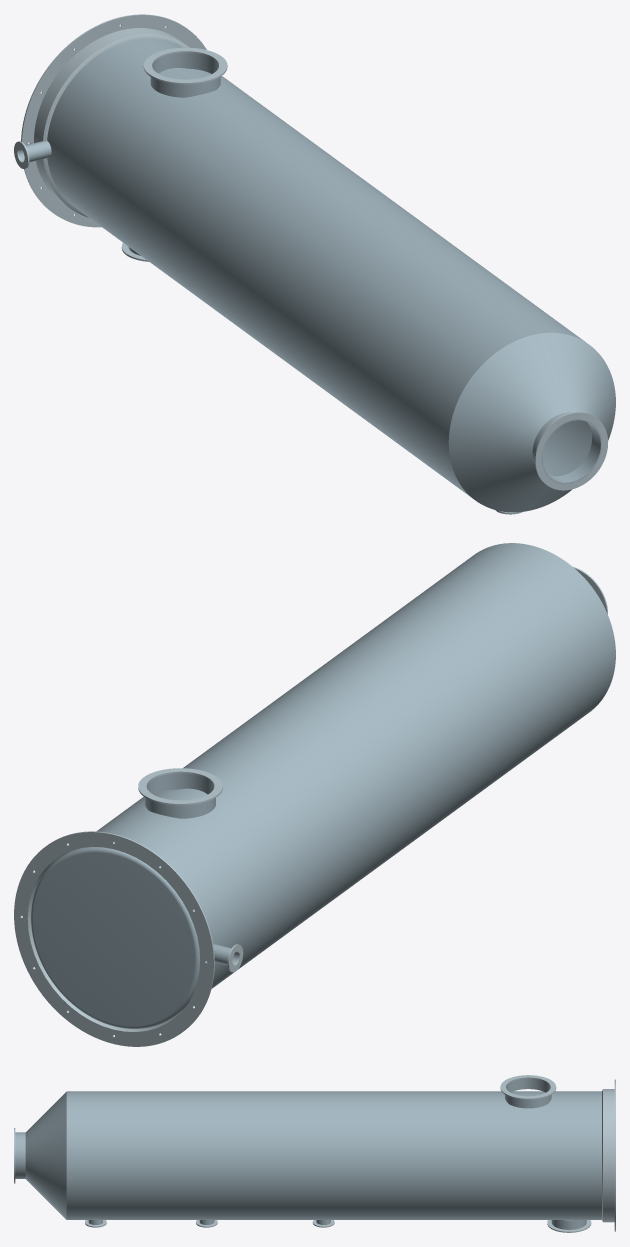
3 views of the same model, one above another, from view 1: azimuth 30°, elevation 25°; view 2: azimuth 150°, elevation 25°; view 3: azimuth 270°, elevation 25° (orthographic). The views are drawn at different scales.
Visible parts, largest first — view 1: 本体_塔身OD2200, 本体_塔顶锥段, 支撑_底锚圈12孔, 支撑_底部立边示意, 接口_北侧大口_接管, 接口_顶部法兰OD955, 接口_顶部接管, 支撑_底部过渡示意, 接口_北侧大口_法兰; view 2: 本体_塔身OD2200, 本体_封底及R50转角, 支撑_底锚圈12孔, 支撑_底部立边示意, 接口_北侧大口_接管, 接口_北侧大口_法兰; view 3: 本体_塔身OD2200, 本体_塔顶锥段, 支撑_底部立边示意, 接口_北侧大口_接管, 接口_北侧大口_法兰, 接口_顶部接管, 支撑_底锚圈12孔, 接口_南侧下口_接管.
Boxes of the visible parts, x1,y1,x2,y2 form: 本体_塔身OD2200: (47, 38, 591, 497); 本体_塔顶锥段: (448, 332, 615, 512); 支撑_底锚圈12孔: (21, 14, 206, 227); 支撑_底部立边示意: (34, 28, 184, 205); 接口_北侧大口_接管: (150, 52, 220, 97); 接口_顶部法兰OD955: (534, 412, 608, 490); 接口_顶部接管: (532, 412, 602, 484); 支撑_底部过渡示意: (43, 34, 189, 217); 接口_北侧大口_法兰: (143, 47, 227, 84); 本体_塔身OD2200: (62, 543, 615, 1013); 本体_封底及R50转角: (31, 847, 200, 1028); 支撑_底锚圈12孔: (14, 831, 214, 1046); 支撑_底部立边示意: (26, 842, 207, 1033); 接口_北侧大口_接管: (145, 773, 215, 818); 接口_北侧大口_法兰: (138, 768, 222, 805); 本体_塔身OD2200: (66, 1091, 601, 1219); 本体_塔顶锥段: (25, 1092, 66, 1219); 支撑_底部立边示意: (603, 1089, 614, 1222); 接口_北侧大口_接管: (505, 1078, 551, 1108); 接口_北侧大口_法兰: (500, 1075, 556, 1099); 接口_顶部接管: (15, 1132, 25, 1178); 支撑_底锚圈12孔: (614, 1079, 615, 1231); 接口_南侧下口_接管: (551, 1220, 586, 1229).
Size of the model in its own units: 2.74 by 2.6 by 10.3.
